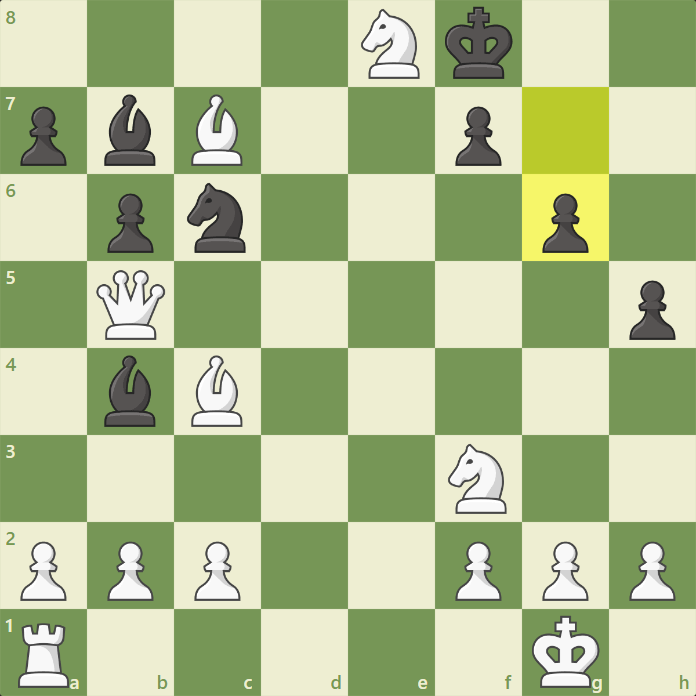B: (185, 91, 246, 169), (189, 353, 245, 430)
K: (530, 613, 602, 691)
N: (443, 441, 510, 517), (358, 7, 423, 83)
P: (18, 538, 69, 604), (103, 538, 154, 604), (191, 539, 242, 605), (452, 538, 503, 604), (539, 539, 590, 605), (626, 538, 677, 604)
Q: (94, 265, 170, 343)
R: (16, 621, 71, 691)
b: (100, 92, 159, 169), (101, 354, 159, 429)
k: (442, 3, 515, 84)
n: (184, 180, 248, 256)
p: (106, 190, 156, 256), (19, 102, 69, 168), (539, 190, 589, 256), (626, 277, 676, 343), (453, 104, 503, 170)
